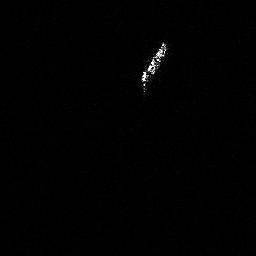ship: (138, 38, 171, 96)
